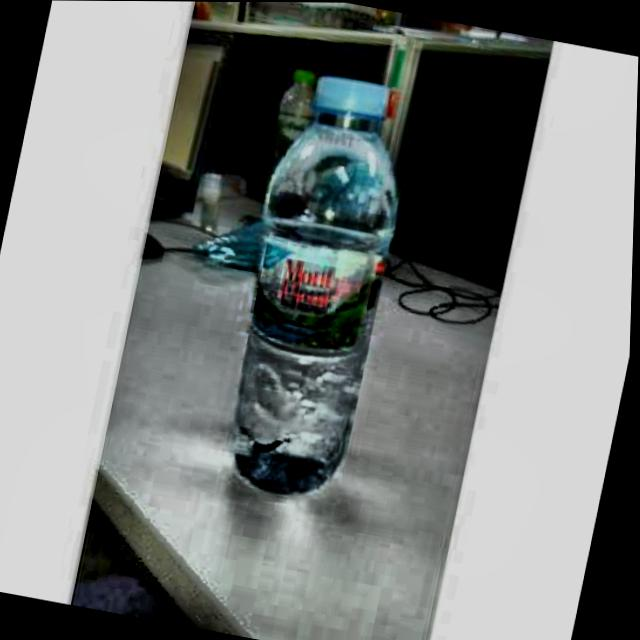Bottles: (202, 62, 453, 526)
